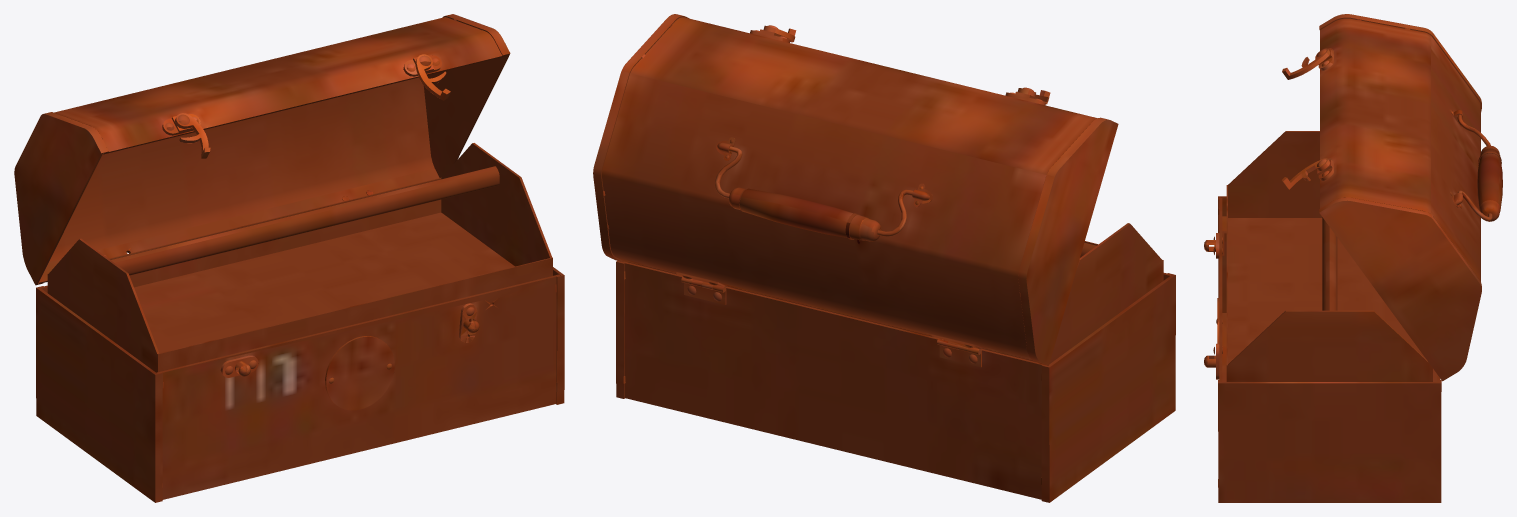
The model's file is toolbox.glb.
3 views of the same model, side by side, from view 1: azimuth 30°, elevation 25°; view 2: azimuth 150°, elevation 25°; view 3: azimuth 270°, elevation 25° (orthographic). The views are drawn at different scales.
Parts seen in each view (by area): view 1: toolbox; view 2: toolbox; view 3: toolbox.
Boxes of the visible parts, x1,y1,x2,y2 form: toolbox: (14, 14, 564, 502); toolbox: (593, 14, 1175, 502); toolbox: (1204, 14, 1502, 502).
Size of the model in its own units: 0.46 by 0.3504 by 0.3111.
Materials: 1 (1 with a texture image).
